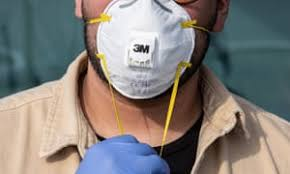mask: (77, 1, 227, 105)
